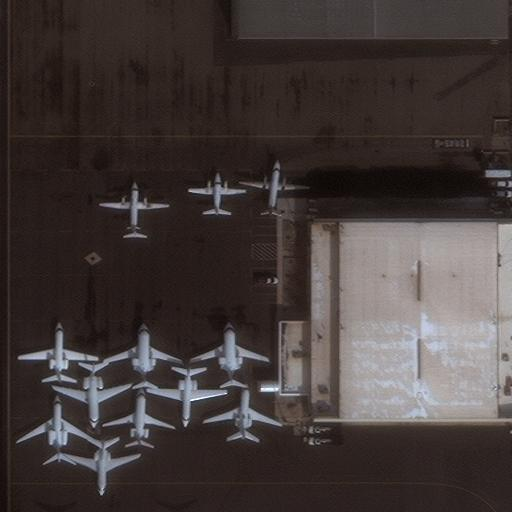Medium Civil Transport: (102, 322, 183, 388), (51, 363, 132, 427), (15, 395, 91, 463), (190, 320, 268, 386), (18, 321, 98, 382), (146, 366, 225, 427), (202, 382, 279, 439), (64, 439, 140, 496), (101, 387, 175, 445), (99, 180, 170, 238), (239, 158, 310, 214)
Small Civil Transport: (188, 170, 246, 216)
